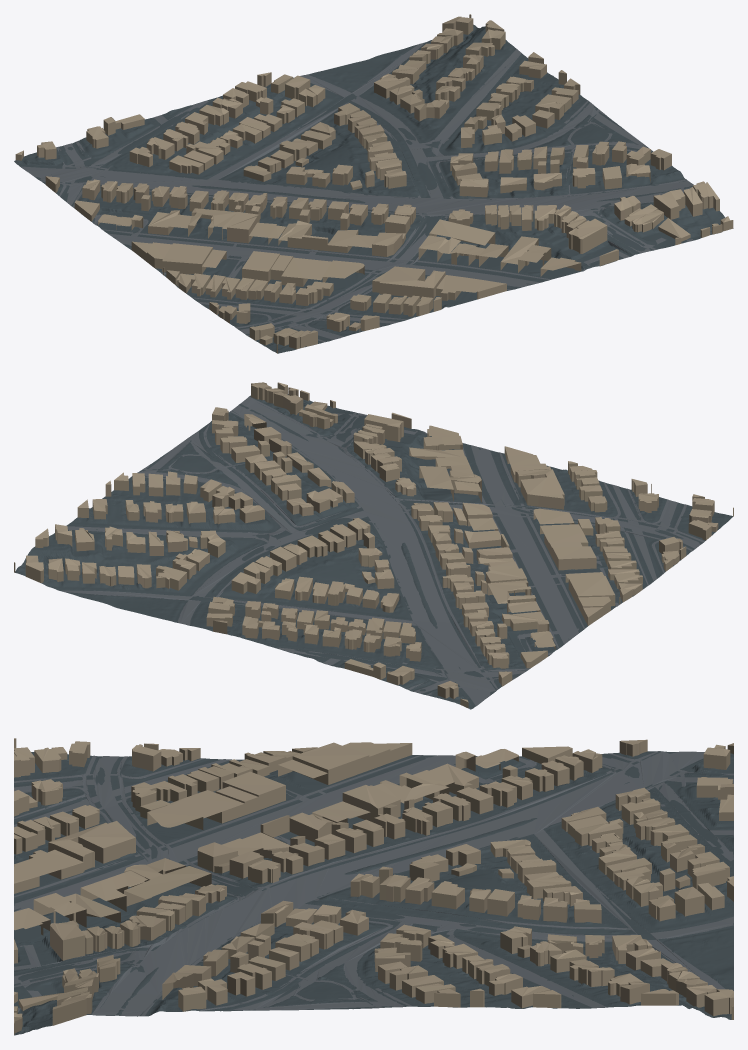
The model's file is epsg26910-1424-10877.lod0.glb.
3 views of the same model, one above another, from view 1: azimuth 30°, elevation 25°; view 2: azimuth 150°, elevation 25°; view 3: azimuth 270°, elevation 25° (orthographic). The views are drawn at different scales.
Visible parts, largest first — view 1: epsg26910-1424-10877-lod0; view 2: epsg26910-1424-10877-lod0; view 3: epsg26910-1424-10877-lod0.
Part boxes in pixels (x1=…): epsg26910-1424-10877-lod0: x1=14, y1=14, x2=733, y2=353; epsg26910-1424-10877-lod0: x1=14, y1=382, x2=733, y2=709; epsg26910-1424-10877-lod0: x1=14, y1=738, x2=733, y2=1035.
Bounding box in the file's own units: 384 × 43.02 × 384.
